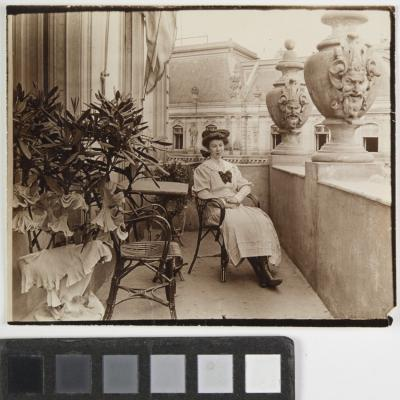photos_negatives: (17, 11, 392, 318)
